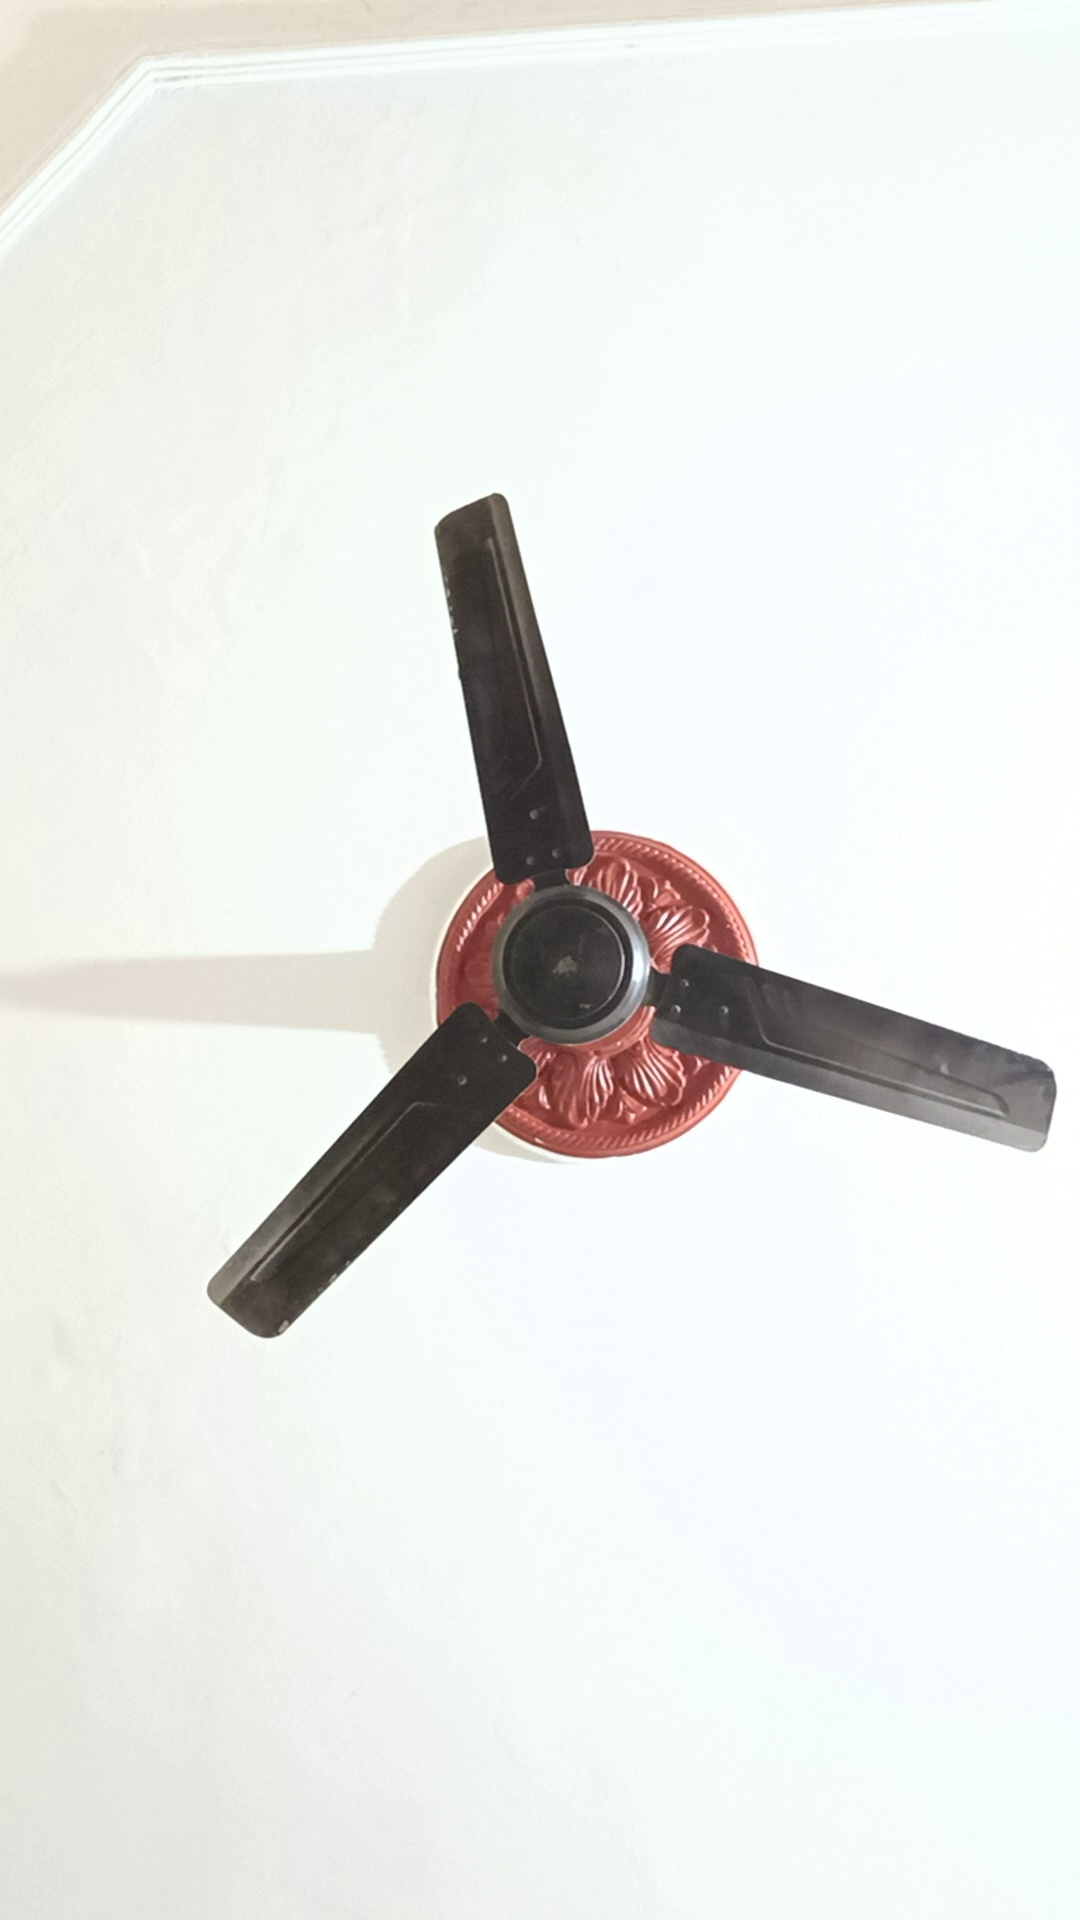fan: (189, 498, 1065, 1342)
